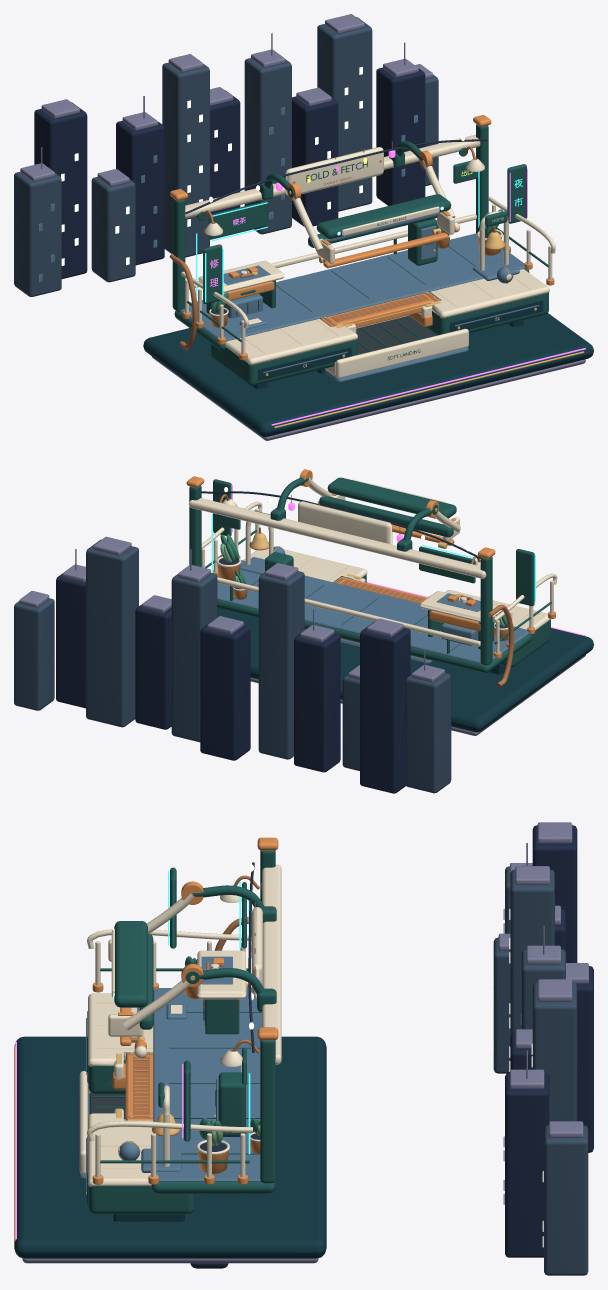
File: 03-terrace-assembled.glb
3 renders of one model, top to bottom at view 1: azimuth 30°, elevation 25°; view 2: azimuth 150°, elevation 25°; view 3: azimuth 270°, elevation 25°, orthographic. The views are drawn at different scales.
Visible parts, largest first — view 1: distant_city_mesh, rooftop_base_mesh, workshop_frame_mesh, floor_left_mesh, floor_right_mesh, neon_signage_mesh, recovery_tray_mesh, upper_chute_mesh, repair_bench_mesh, service_cables_mesh, roof_rails_mesh, bridge_beam_mesh (+4 smaller); view 2: distant_city_mesh, rooftop_base_mesh, workshop_frame_mesh, upper_chute_mesh, neon_signage_mesh, repair_bench_mesh, roof_rails_mesh, service_cables_mesh, floor_left_mesh, floor_right_mesh, planters_mesh, exit_bell_mesh (+1 smaller); view 3: rooftop_base_mesh, distant_city_mesh, workshop_frame_mesh, floor_right_mesh, upper_chute_mesh, roof_rails_mesh, floor_left_mesh, repair_bench_mesh, neon_signage_mesh, service_cables_mesh, bridge_beam_mesh, recovery_tray_mesh (+3 smaller).
Boxes of the visible parts, x1=… form: distant_city_mesh: x1=14, y1=14, x2=438, y2=296; rooftop_base_mesh: x1=143, y1=233, x2=593, y2=440; workshop_frame_mesh: x1=170, y1=115, x2=491, y2=311; floor_left_mesh: x1=210, y1=318, x2=357, y2=389; floor_right_mesh: x1=426, y1=269, x2=549, y2=335; neon_signage_mesh: x1=196, y1=142, x2=585, y2=425; recovery_tray_mesh: x1=324, y1=315, x2=468, y2=382; upper_chute_mesh: x1=287, y1=150, x2=455, y2=263; repair_bench_mesh: x1=198, y1=260, x2=284, y2=318; service_cables_mesh: x1=169, y1=135, x2=487, y2=349; roof_rails_mesh: x1=181, y1=196, x2=555, y2=360; bridge_beam_mesh: x1=320, y1=292, x2=439, y2=327; distant_city_mesh: x1=14, y1=536, x2=451, y2=793; rooftop_base_mesh: x1=217, y1=560, x2=593, y2=735; workshop_frame_mesh: x1=186, y1=476, x2=495, y2=665; upper_chute_mesh: x1=299, y1=469, x2=460, y2=541; neon_signage_mesh: x1=211, y1=479, x2=586, y2=636; repair_bench_mesh: x1=420, y1=591, x2=502, y2=649; roof_rails_mesh: x1=201, y1=501, x2=557, y2=658; service_cables_mesh: x1=201, y1=487, x2=513, y2=687; floor_left_mesh: x1=445, y1=590, x2=550, y2=674; floor_right_mesh: x1=243, y1=548, x2=367, y2=582; planters_mesh: x1=216, y1=534, x2=508, y2=640; exit_bell_mesh: x1=240, y1=510, x2=273, y2=574; rooftop_base_mesh: x1=14, y1=988, x2=326, y2=1268; distant_city_mesh: x1=492, y1=822, x2=593, y2=1275; workshop_frame_mesh: x1=192, y1=837, x2=281, y2=1183; floor_right_mesh: x1=86, y1=1113, x2=194, y2=1221; upper_chute_mesh: x1=108, y1=881, x2=203, y2=1036; roof_rails_mesh: x1=87, y1=929, x2=252, y2=1184; floor_left_mesh: x1=86, y1=993, x2=153, y2=1094; repair_bench_mesh: x1=197, y1=950, x2=246, y2=1034; neon_signage_mesh: x1=15, y1=867, x2=258, y2=1239; service_cables_mesh: x1=214, y1=862, x2=254, y2=1136; bridge_beam_mesh: x1=125, y1=1052, x2=153, y2=1120; recovery_tray_mesh: x1=78, y1=1071, x2=125, y2=1179.
Size of the model in its own units: 11.31 by 5.6 by 10.41.
